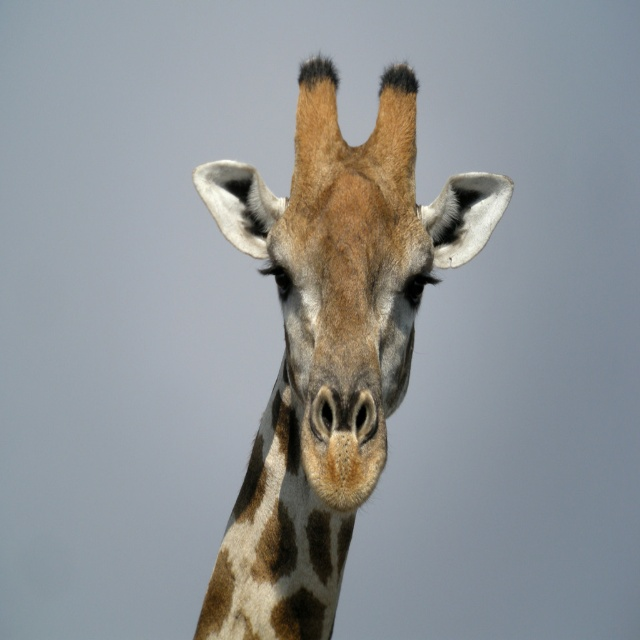Giraffe: (194, 60, 506, 637)
